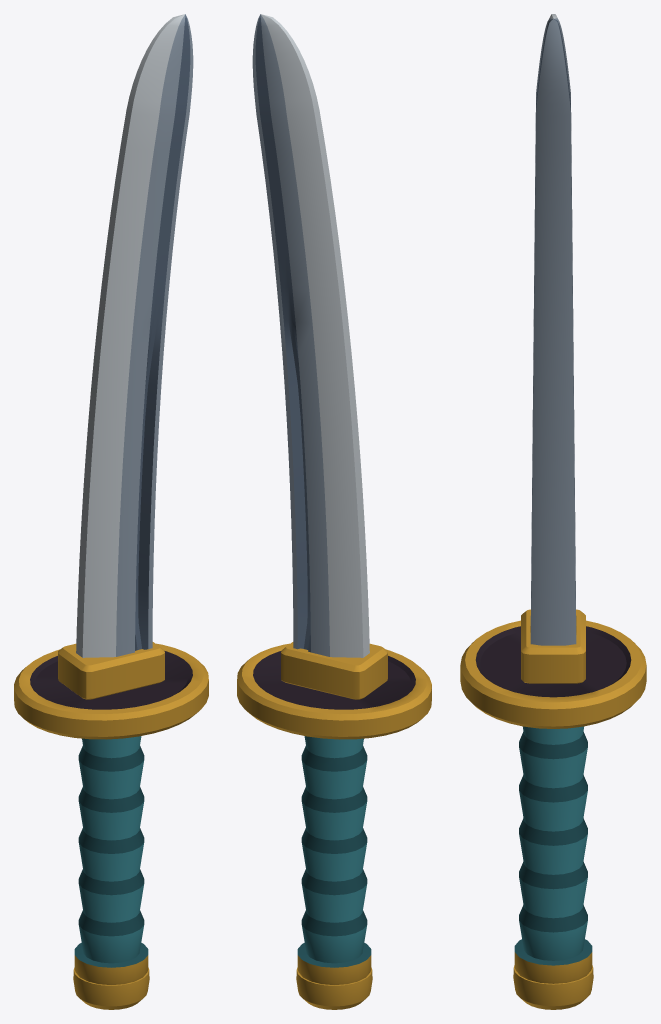
The model's file is Katana_13.glb.
3 views of the same model, side by side, from view 1: azimuth 30°, elevation 25°; view 2: azimuth 150°, elevation 25°; view 3: azimuth 270°, elevation 25° (orthographic). The views are drawn at different scales.
Visible parts, largest first — view 1: Katana_13; view 2: Katana_13; view 3: Katana_13.
Boxes of the visible parts, x1,y1,x2,y2 form: Katana_13: (14, 14, 208, 1009); Katana_13: (237, 14, 431, 1009); Katana_13: (460, 14, 646, 1009).
Size of the model in its own units: 1.22 by 6.48 by 1.08.
